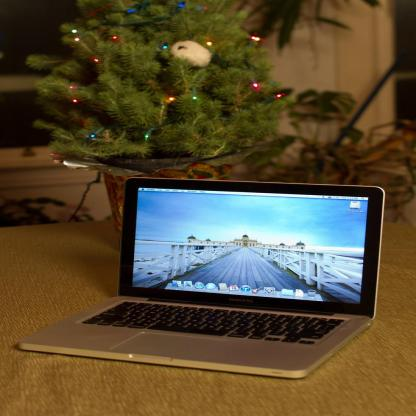board: (11, 178, 402, 378)
